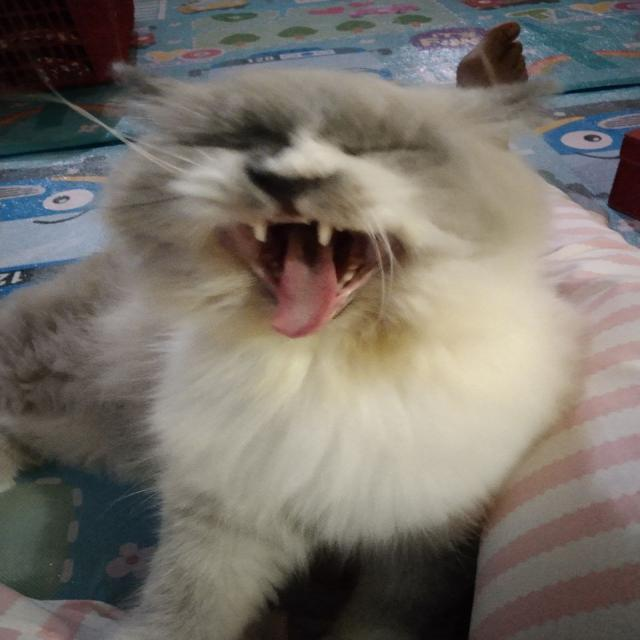da khoe manh: (155, 305, 510, 529)
